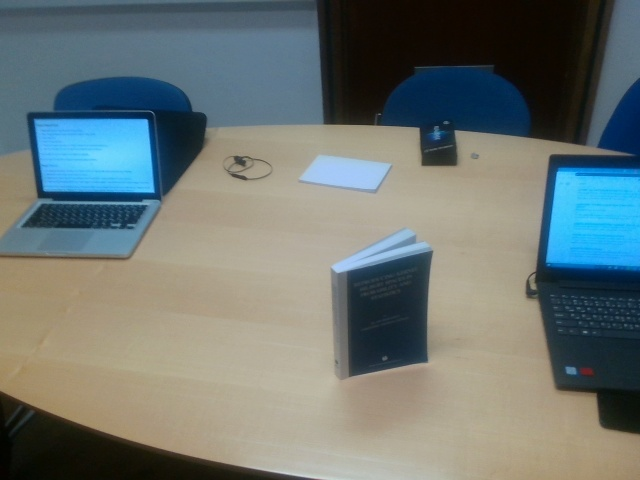book: (329, 228, 432, 382)
